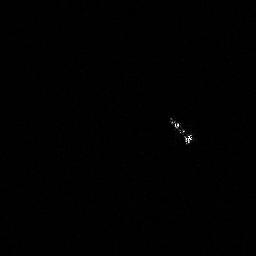ship: (165, 112, 196, 148)
